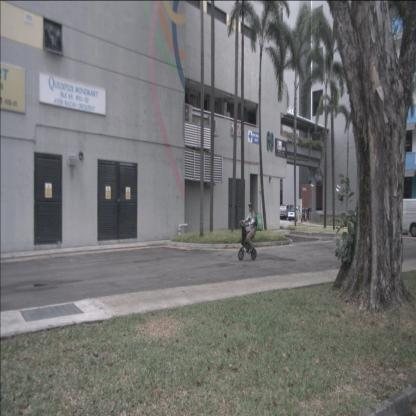vehicle-bicycle: (238, 203, 263, 261)
vehicle-car: (387, 198, 416, 238), (280, 204, 295, 219), (288, 207, 304, 221)
